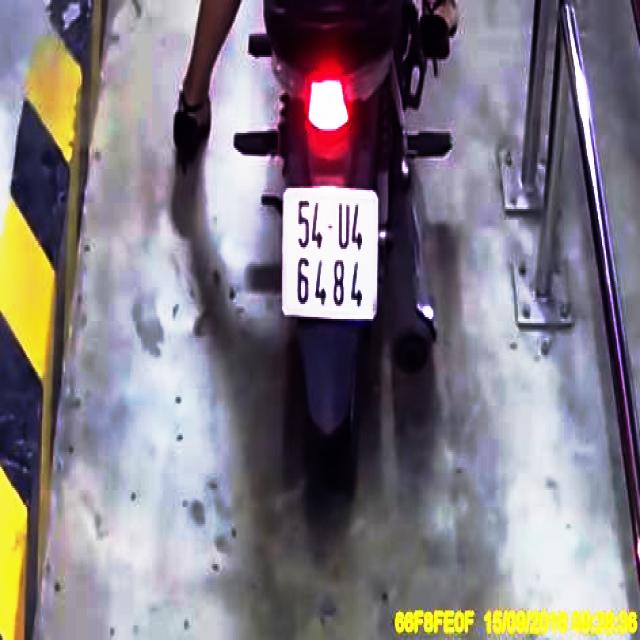license_plate: (286, 190, 379, 319)
